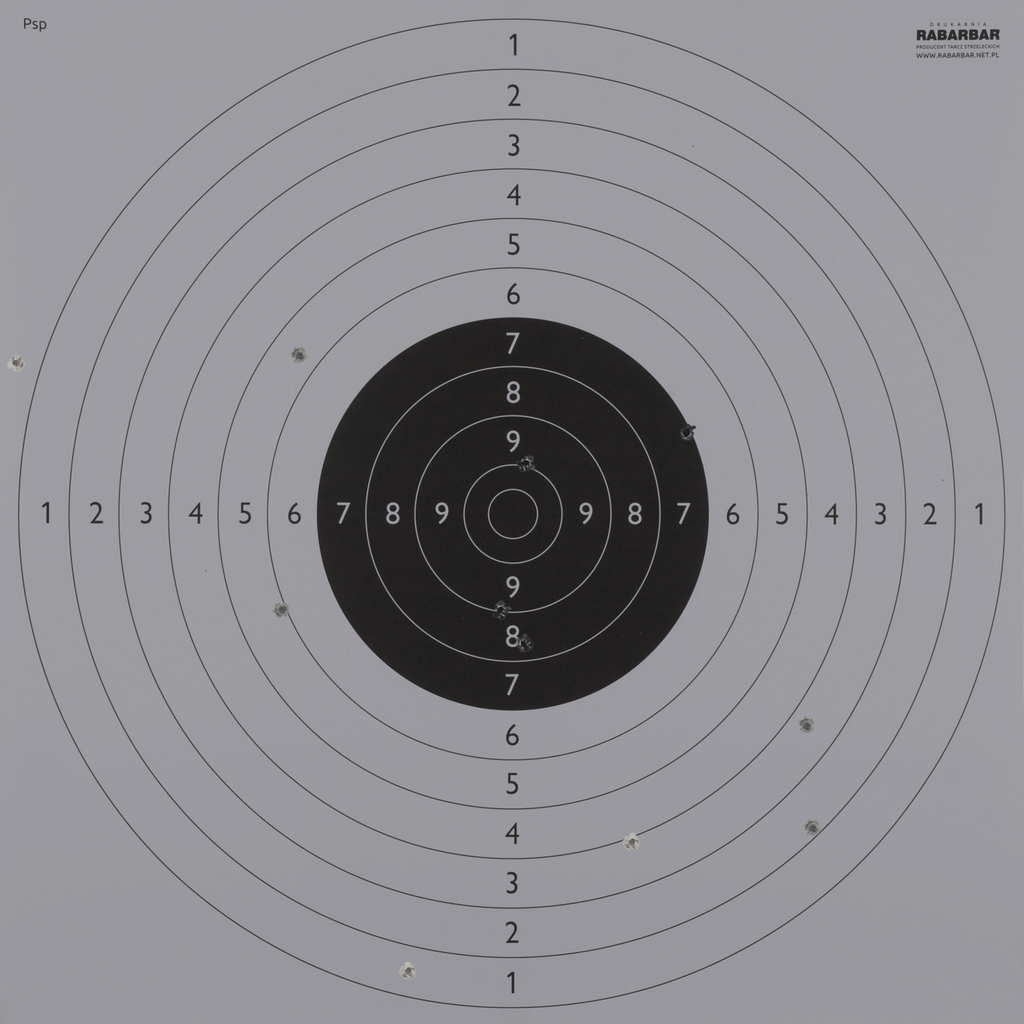0 punktow: (7, 354, 25, 372)
1 punkt: (399, 962, 418, 980)
10 punktow: (516, 454, 535, 473)
2 punkty: (804, 819, 822, 837)
3 punkty: (798, 717, 816, 735)
4 punkty: (623, 833, 641, 851)
5 punktow: (290, 346, 309, 365)
6 punktow: (273, 600, 291, 619)
7 punktow: (678, 423, 696, 442)
8 punktow: (515, 634, 533, 653)
9 punktow: (491, 601, 510, 620)
